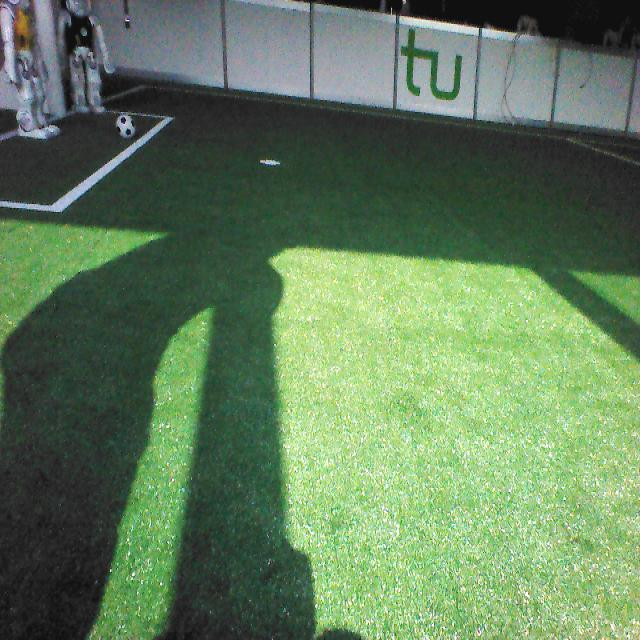ball: (117, 114, 142, 142)
goalpost: (32, 2, 66, 114)
